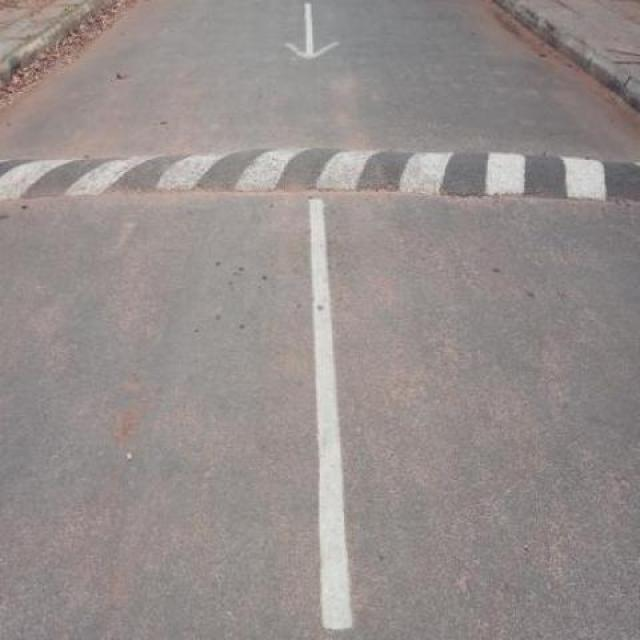Speed Bump: (0, 143, 639, 210)
